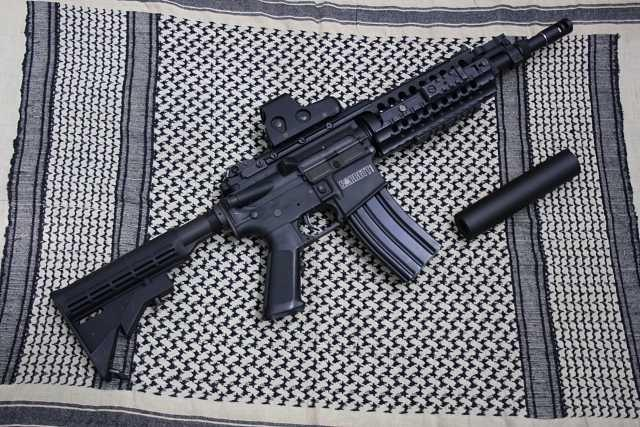heavyweapon: (41, 1, 587, 382)
